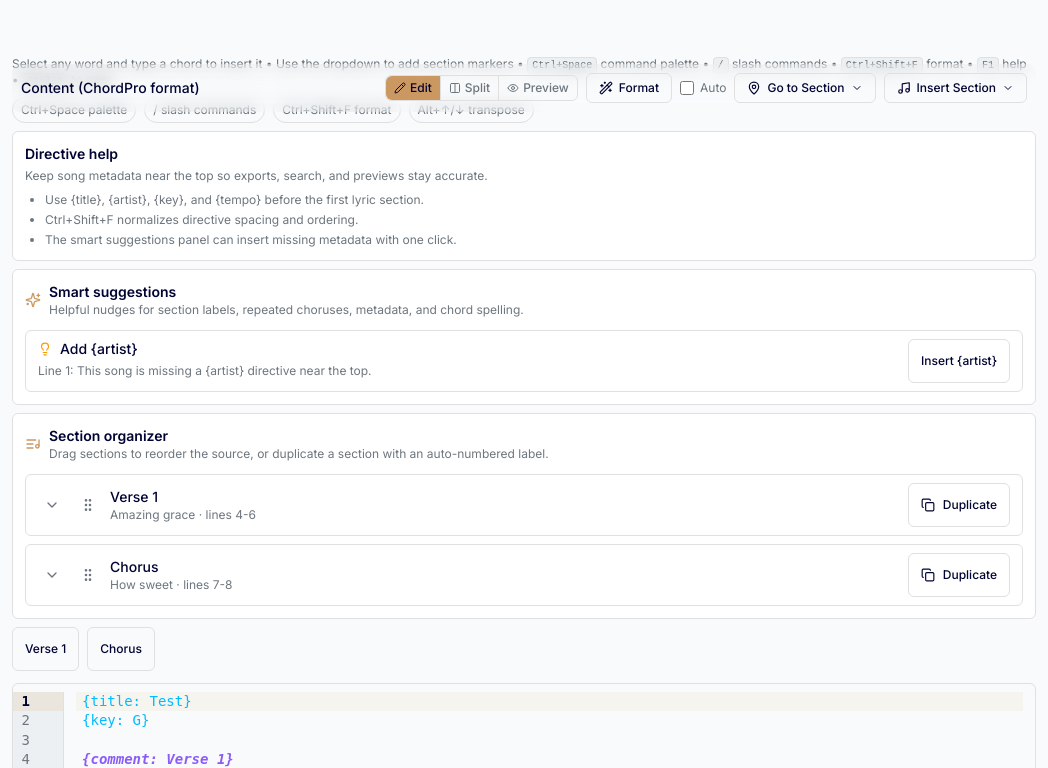
ChordProEditor — Phase 2 features › split preview › hides editor in preview mode
The image size is (1048, 768).
Click the button with test id "view-mode-preview" at (538, 88), box [499, 76, 577, 100]
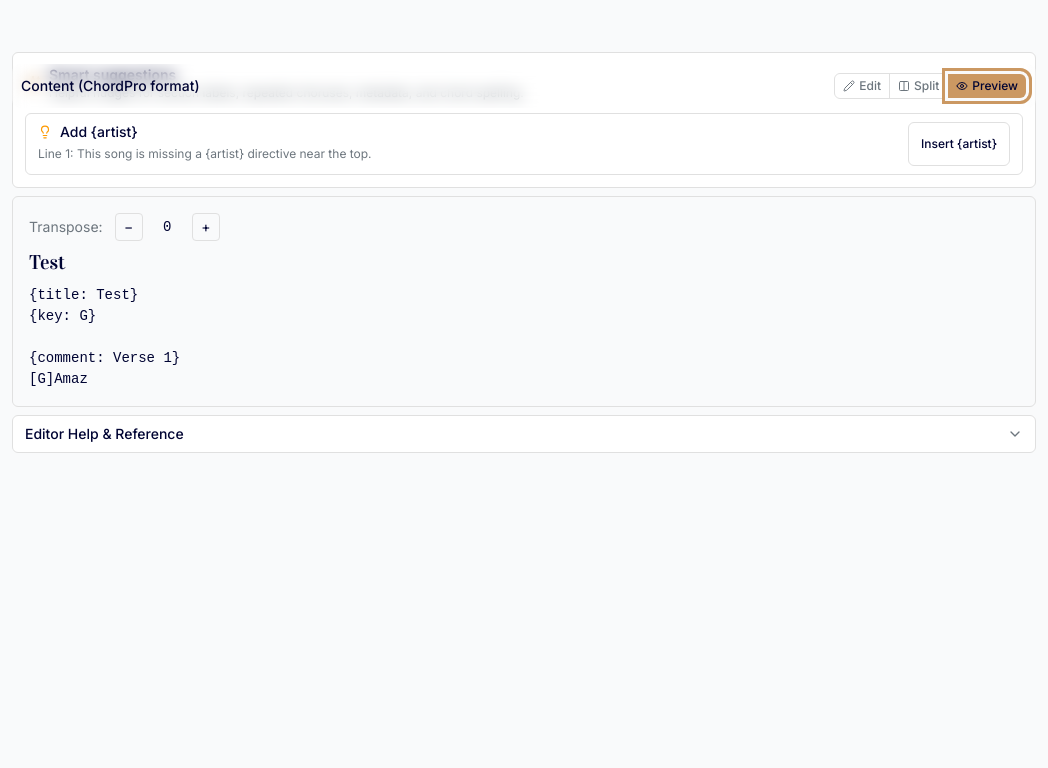
Expected: the element with test id "split-preview-pane" is shown, [12, 196, 1036, 406]
